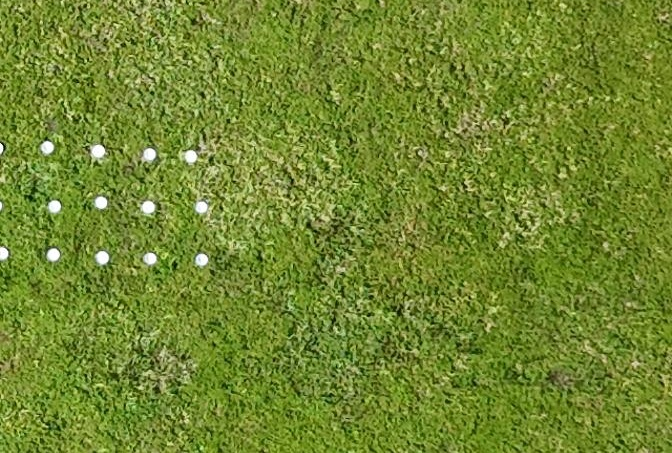bowl: (95, 250, 110, 266), (40, 140, 55, 155), (46, 248, 61, 262), (92, 143, 106, 158), (184, 149, 198, 164), (94, 195, 108, 209), (143, 147, 157, 161), (142, 200, 156, 214), (143, 251, 157, 265), (195, 200, 209, 214), (48, 200, 62, 213), (196, 253, 209, 266), (0, 246, 9, 260), (0, 141, 4, 156)
